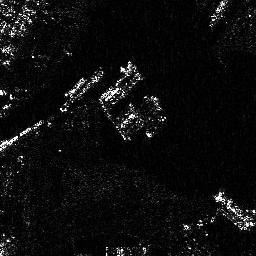ship: (212, 190, 255, 226), (65, 76, 86, 96)
